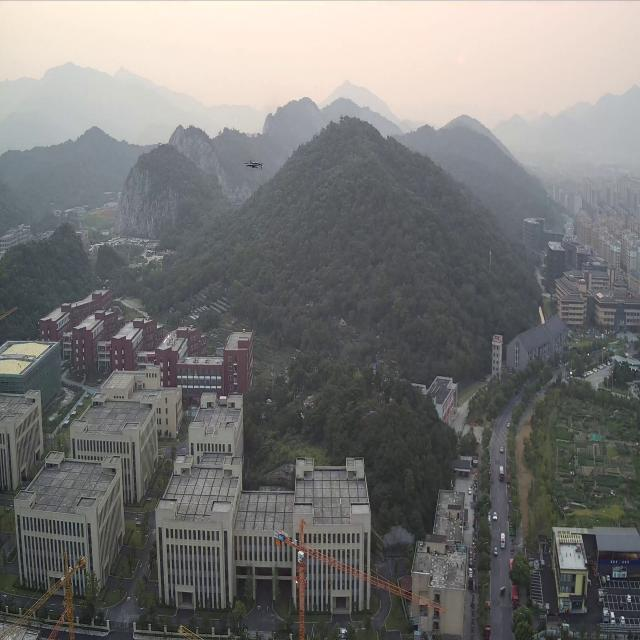UAV: (243, 158, 265, 173)
